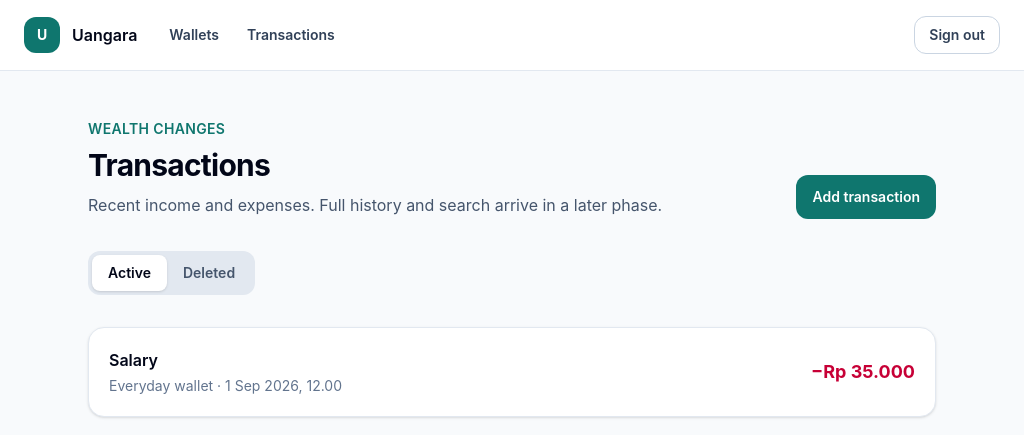
Test: income and expense transaction flow › keeps active and deleted transaction visibility distinct
Expected: the heading "Salary" is shown, [109,348,158,372]
Click the button "deleted" at (209, 273), box [167,255,251,291]
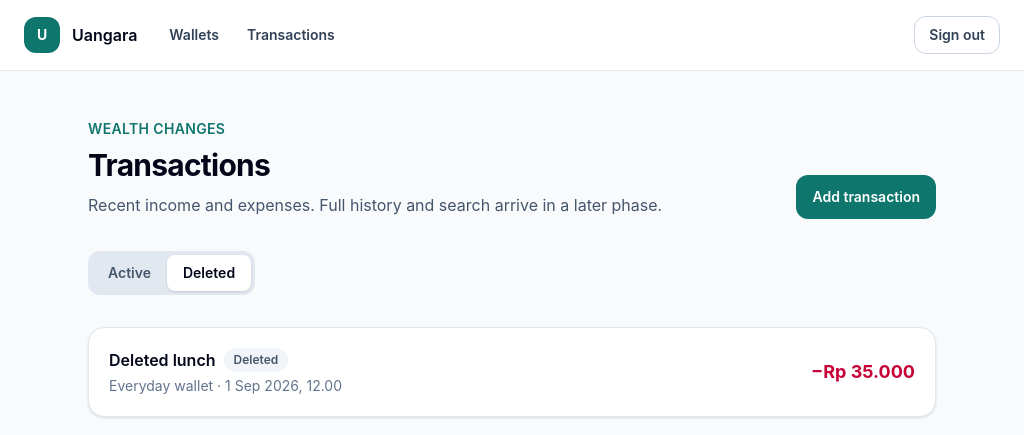
Expected: the heading "Deleted lunch" is shown, [109,348,216,372]
